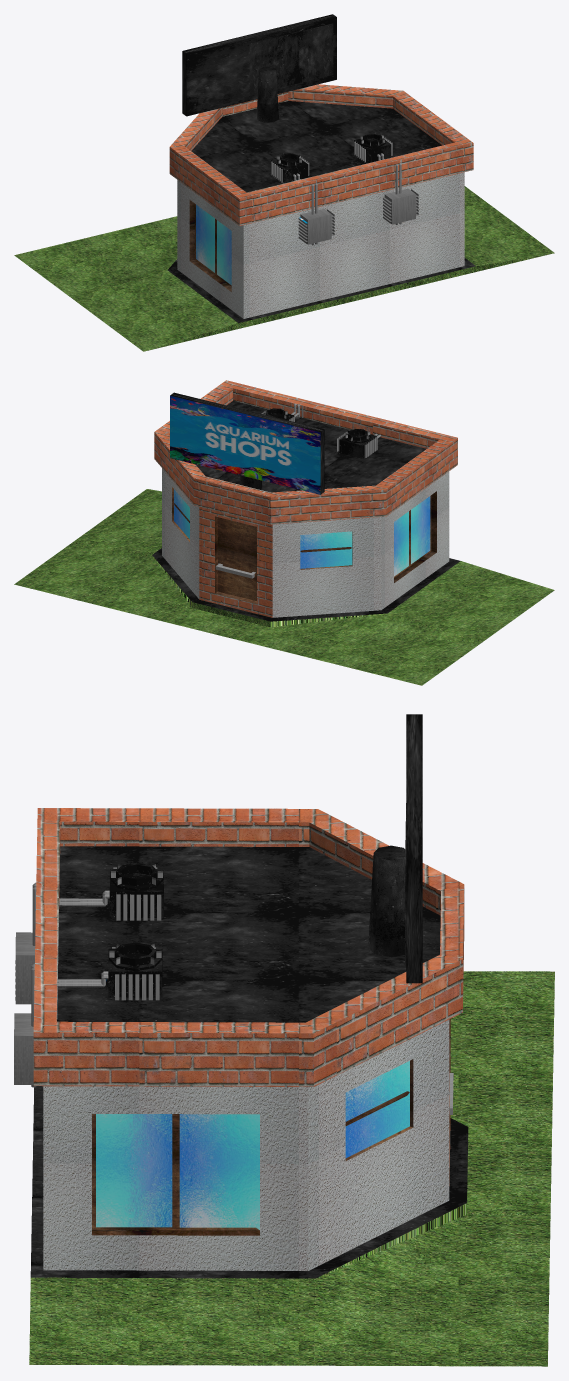
File: store.obj
3 views of the same model, one above another, from view 1: azimuth 30°, elevation 25°; view 2: azimuth 150°, elevation 25°; view 3: azimuth 270°, elevation 25° (orthographic). The views are drawn at different scales.
Visible parts, largest first — view 1: Building_Cube, Box002; view 2: Building_Cube, Box002; view 3: Building_Cube, Box002.
Boxes of the visible parts, bbox=[...] form: Building_Cube: bbox=[14, 23, 554, 351]; Box002: bbox=[182, 14, 336, 116]; Building_Cube: bbox=[14, 380, 554, 685]; Box002: bbox=[170, 392, 324, 494]; Building_Cube: bbox=[14, 803, 554, 1366]; Box002: bbox=[406, 714, 422, 983].
Size of the model in its own units: 15.15 by 6.89 by 8.73.
Materials: 8 (8 with a texture image).
